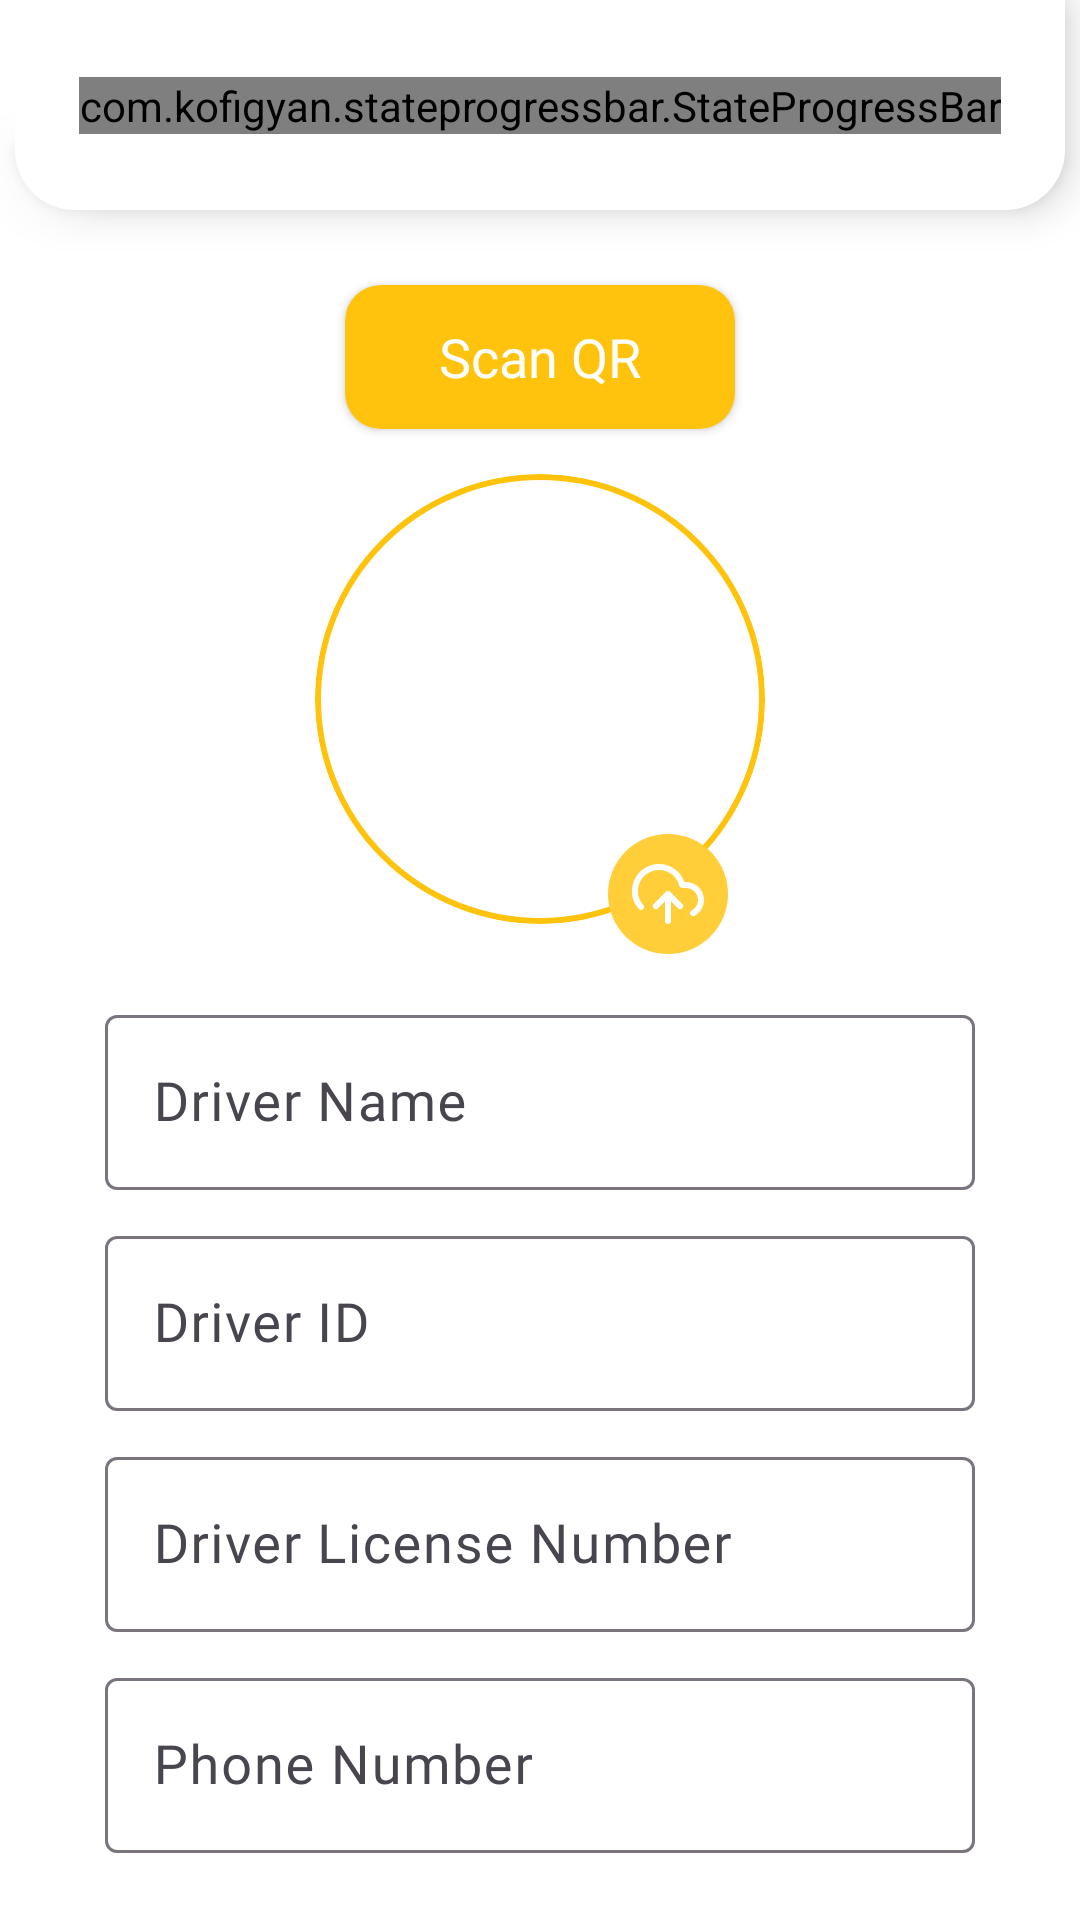

Point at icon controls on the screen. Image size 1080px×1920px, points as (x,y).
upload: (668,894)
